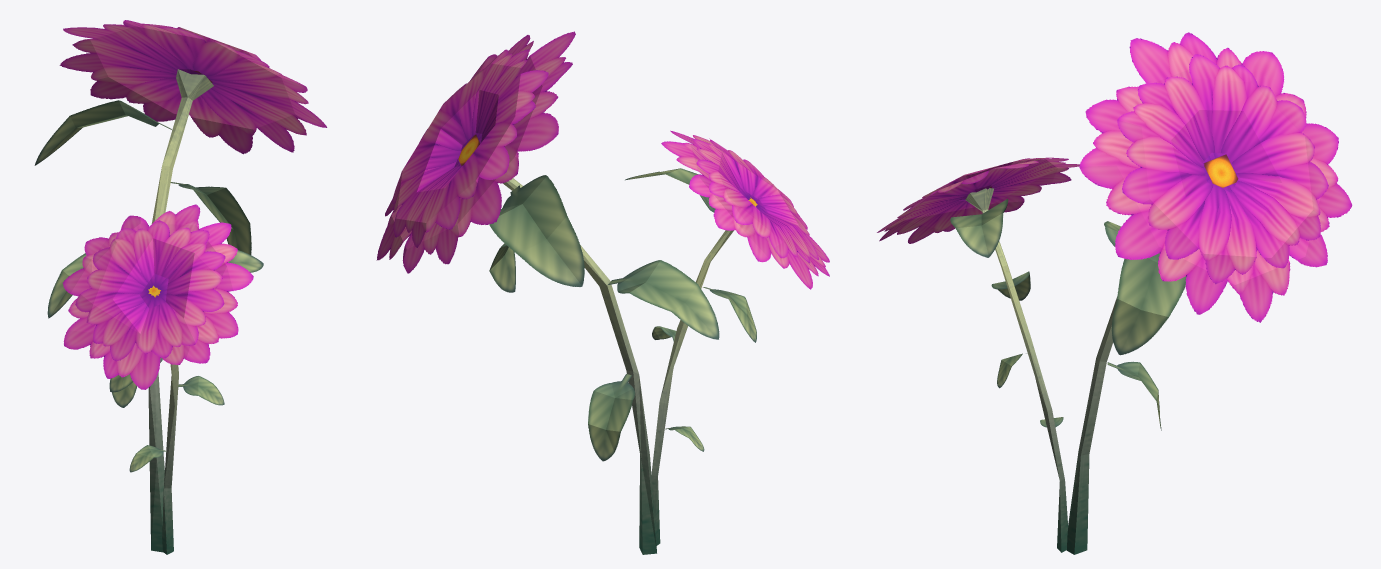
File: VEG0310015.fbx
3 views of the same model, side by side, from view 1: azimuth 30°, elevation 25°; view 2: azimuth 150°, elevation 25°; view 3: azimuth 270°, elevation 25° (orthographic). The views are drawn at different scales.
Parts seen in each view (by area): view 1: smVEG0310015; view 2: smVEG0310015; view 3: smVEG0310015.
Boxes of the visible parts, <box> form: smVEG0310015: <box>34,20,327,554</box>; smVEG0310015: <box>376,31,829,554</box>; smVEG0310015: <box>877,32,1352,554</box>.
Bounding box in the file's own units: 24.47 × 35.46 × 29.91.
1 material, 1 textured.
